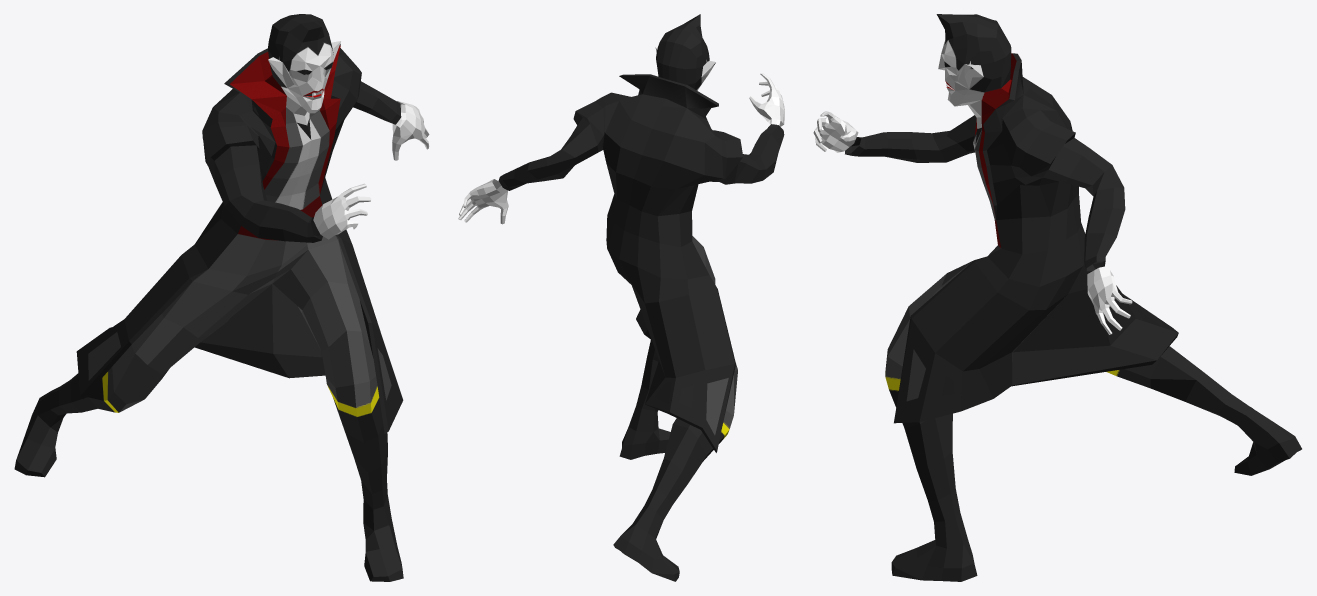
The model's file is VampireAttack(45).obj.
The picture shows the model from 3 angles, left to right: view 1: azimuth 30°, elevation 25°; view 2: azimuth 150°, elevation 25°; view 3: azimuth 270°, elevation 25°; orthographic projection. The views are drawn at different scales.
Visible parts, largest first — view 1: Plane002; view 2: Plane002; view 3: Plane002.
Boxes of the visible parts, x1=… form: Plane002: x1=14, y1=14, x2=429, y2=581; Plane002: x1=458, y1=14, x2=784, y2=581; Plane002: x1=813, y1=14, x2=1301, y2=581.
Size of the model in its own units: 189 by 293 by 244.
